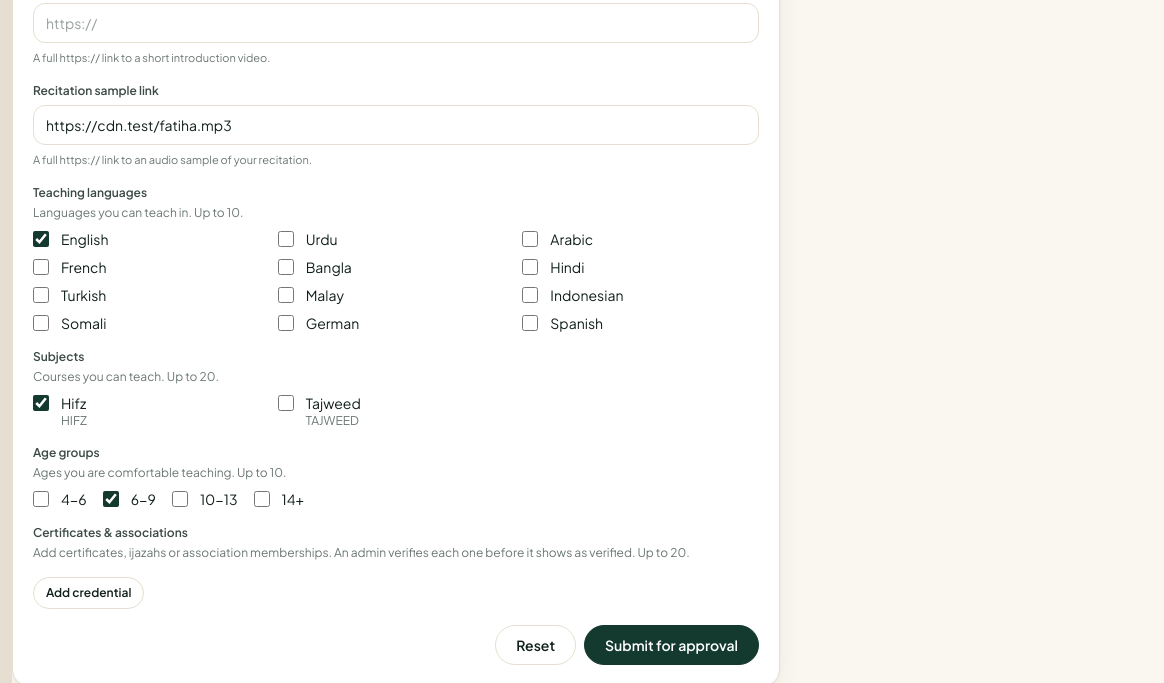
Scenario: ProfileScreen › sends only the changed lists and shows the staged set the API returns
(page scrolled)
Click the checkbox labelled "Tajweed TAJWEED". click: (286, 403)
box: x1=278 y1=395 x2=294 y2=411
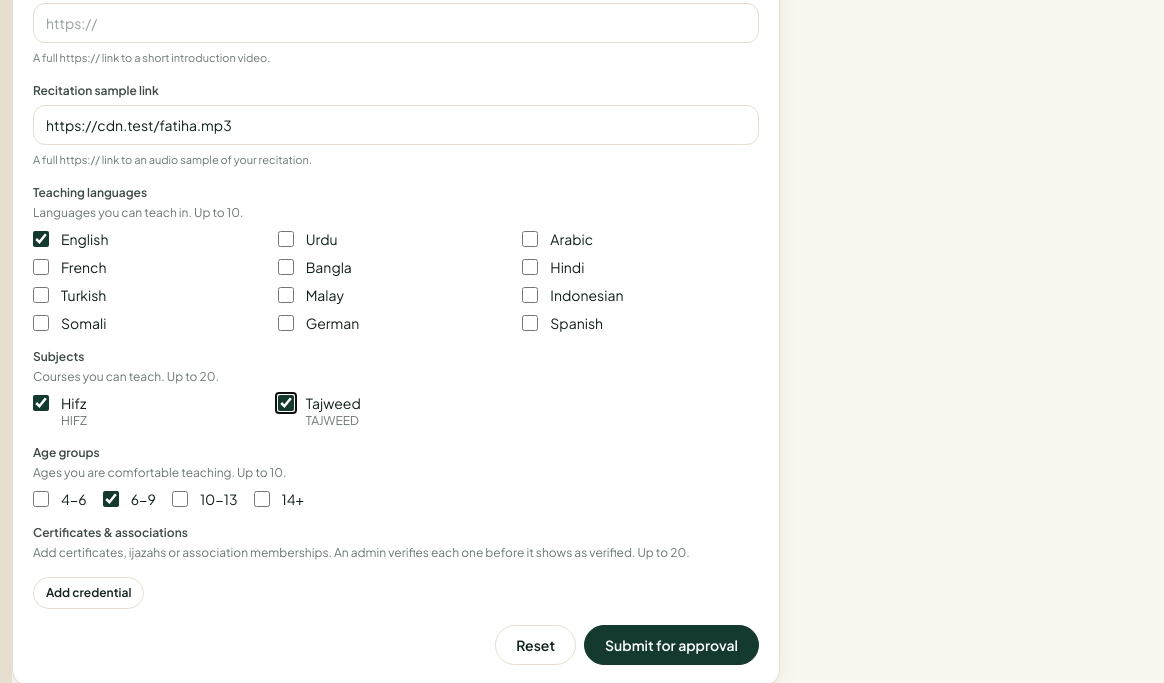
Click the button "Submit for approval". click: (672, 645)
box: x1=584 y1=625 x2=759 y2=665
(page scrolled)
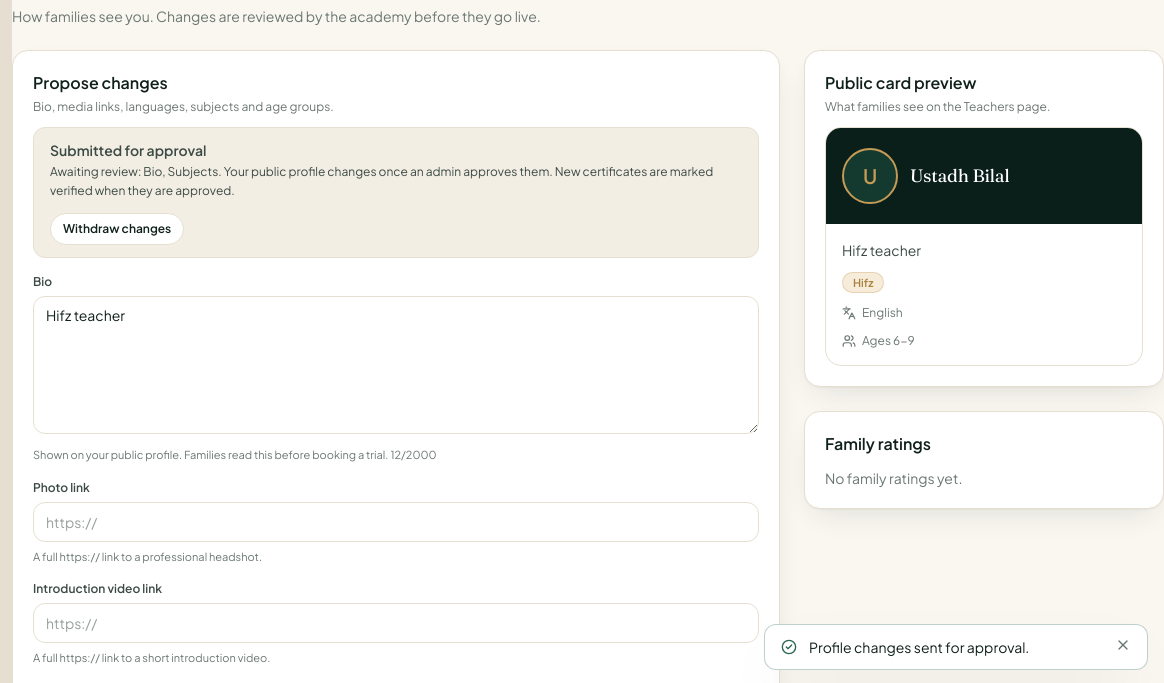
expect the text "Awaiting review: Bio, Subjects." is shown: met, box x1=50 y1=162 x2=742 y2=201
